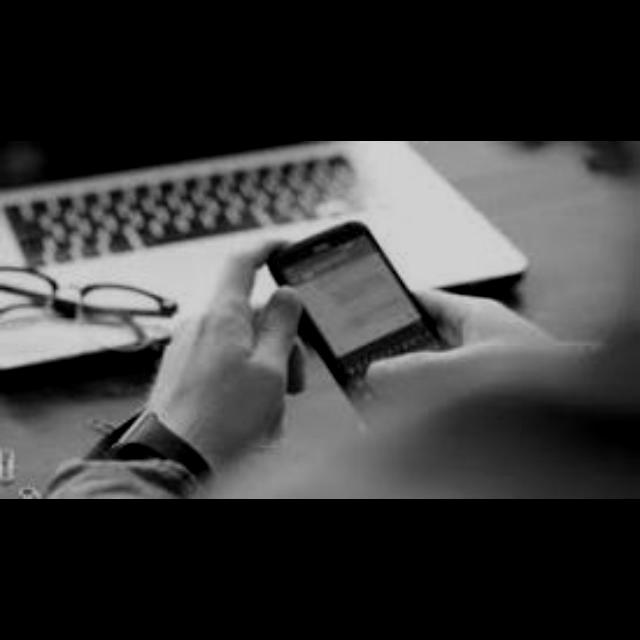fake: (232, 206, 488, 424)
